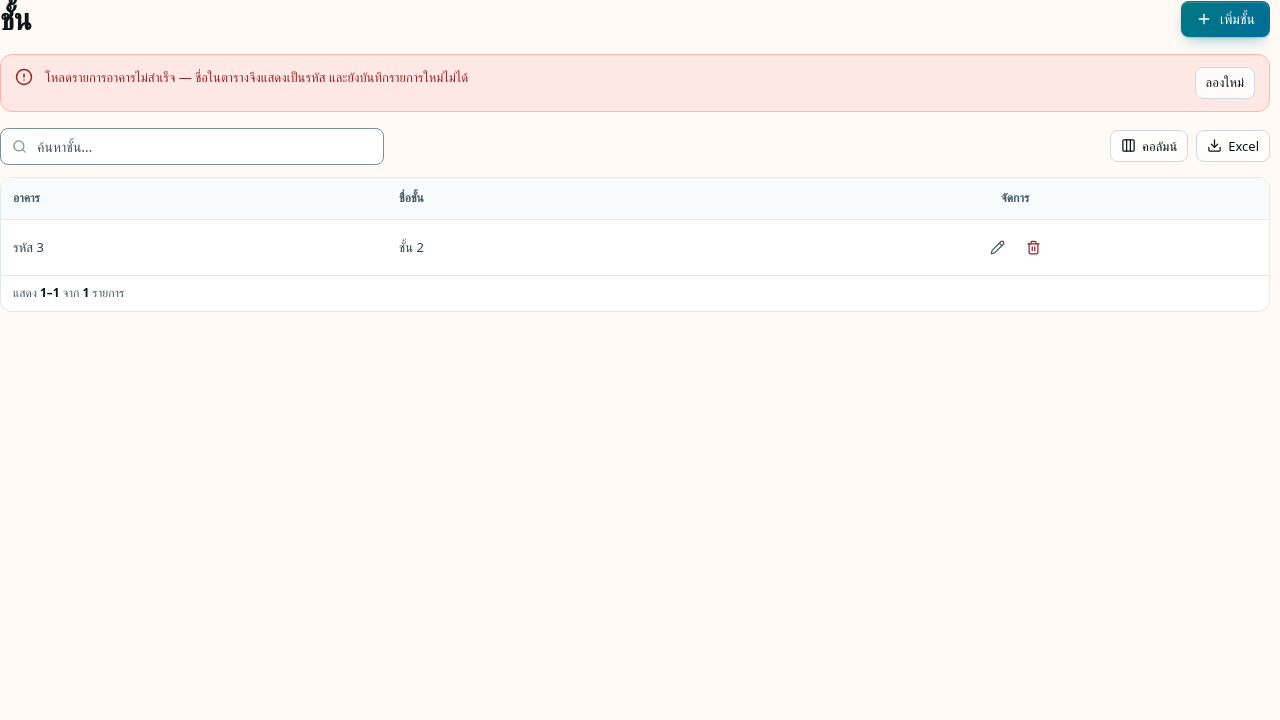
Scenario: ข้อมูลอ้างอิงโหลดไม่สำเร็จ › ลองใหม่สำเร็จแล้วข้อความหาย ตัวเลือกมา ค่าที่กรอกไว้ยังอยู่
The width and height of the screenshot is (1280, 720).
What coordinates should you click on to do the following:
click the button with test id "retry-options"
I would click on:
 (1225, 82)
Its box is left=1195, top=66, right=1255, bottom=98.
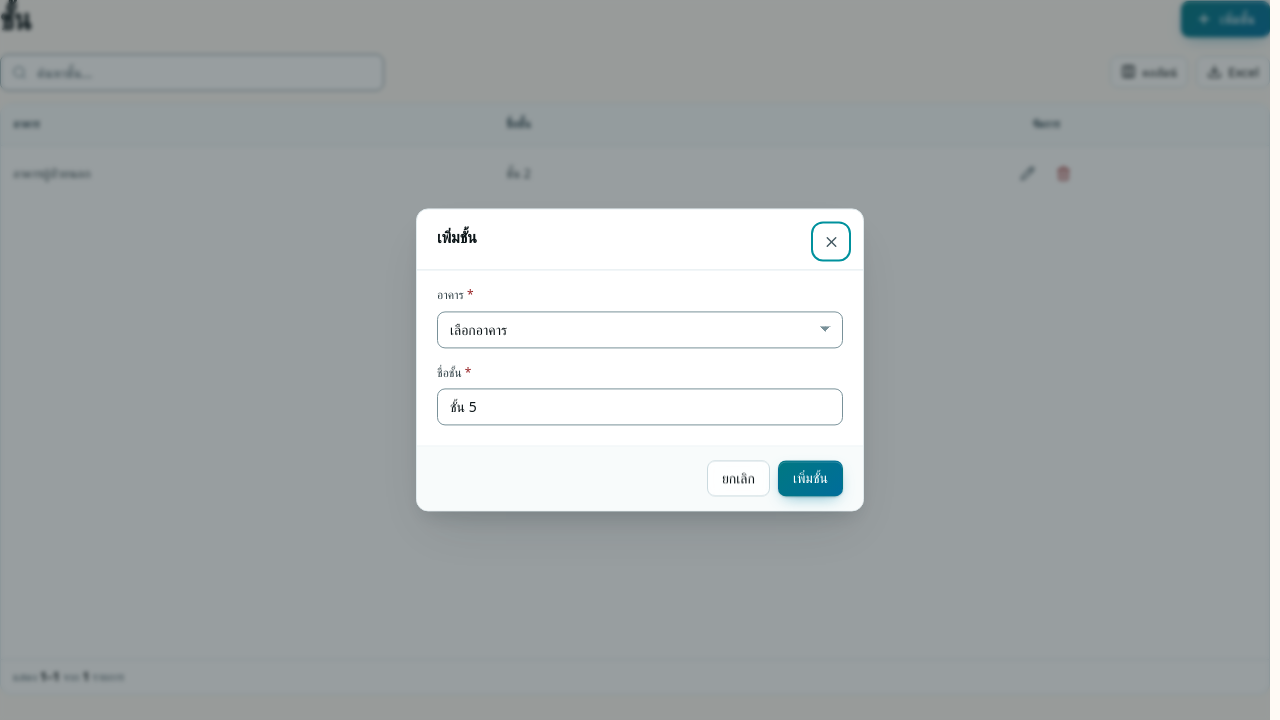
Expected: the text "โหลดรายการอาคารไม่สำเร็จ" is gone
Expected: the cell "อาคารผู้ป่วยนอก" is shown, left=1, top=146, right=494, bottom=202
